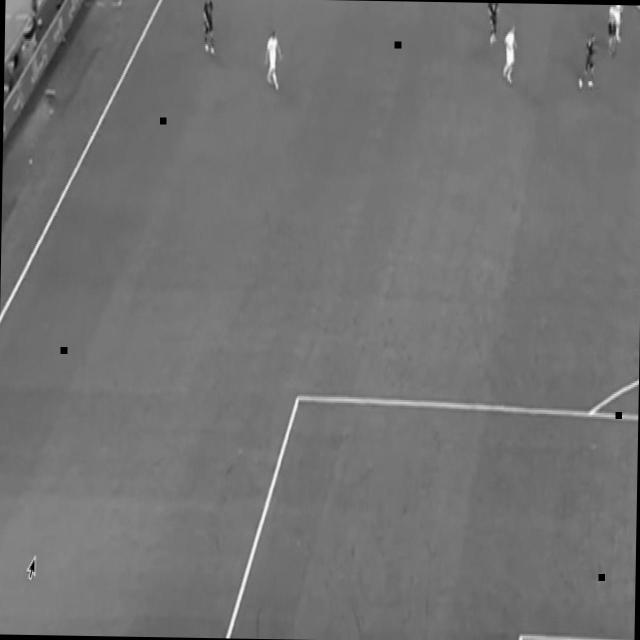player-white: (264, 22, 286, 100), (577, 26, 601, 94), (500, 20, 520, 88), (200, 0, 217, 60), (484, 3, 504, 51), (606, 5, 622, 57), (612, 5, 628, 45)
